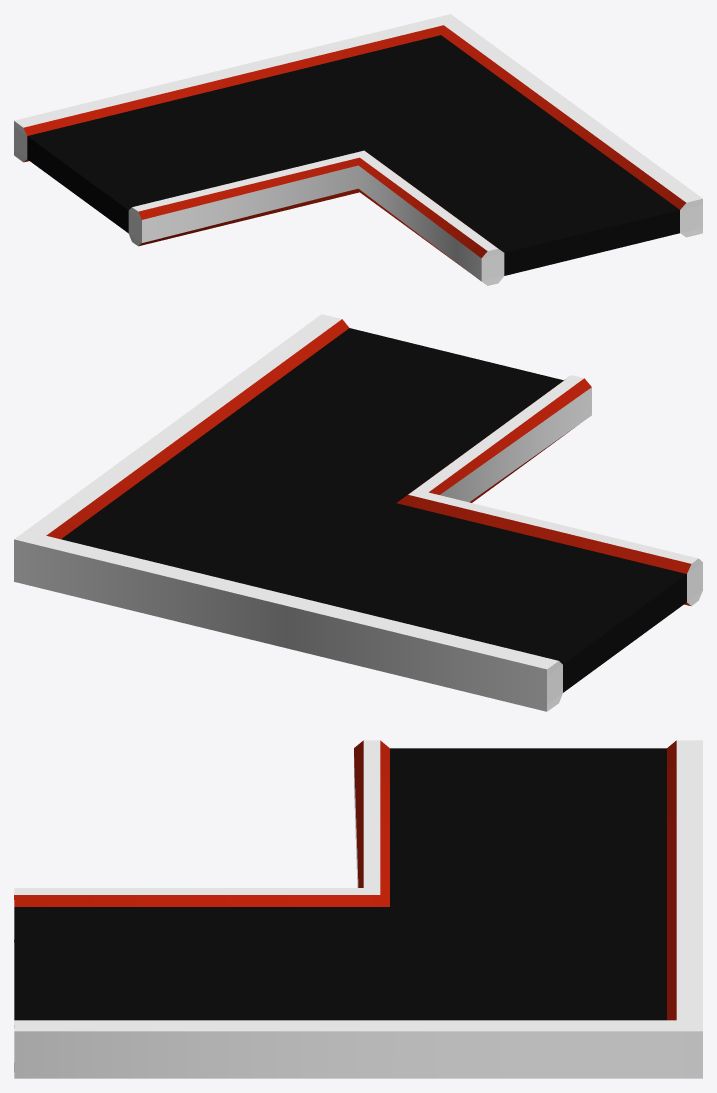
Rendered from S_assete_basement_platform_7.fbx.
3 renders of one model, top to bottom at view 1: azimuth 30°, elevation 25°; view 2: azimuth 150°, elevation 25°; view 3: azimuth 270°, elevation 25°, orthographic. The views are drawn at different scales.
Parts seen in each view (by area): view 1: platforme_008; view 2: platforme_008; view 3: platforme_008.
Part boxes in pixels (left/top/right/bottom): platforme_008: left=14, top=14, right=702, bottom=285; platforme_008: left=14, top=314, right=702, bottom=711; platforme_008: left=14, top=740, right=702, bottom=1078.
Bounding box in the file's own units: 395 × 30 × 395.
